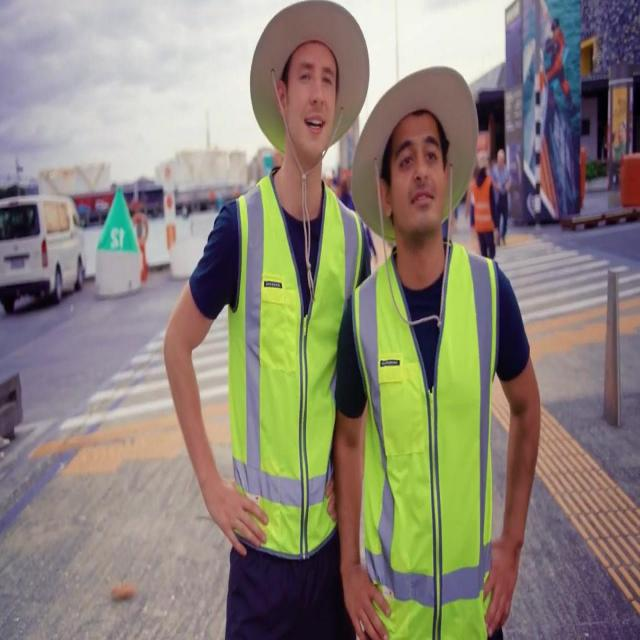Reflective-Jacket: (350, 245, 506, 633), (221, 172, 362, 561)
Safety-Helmet: (356, 58, 482, 215), (245, 1, 368, 153)
